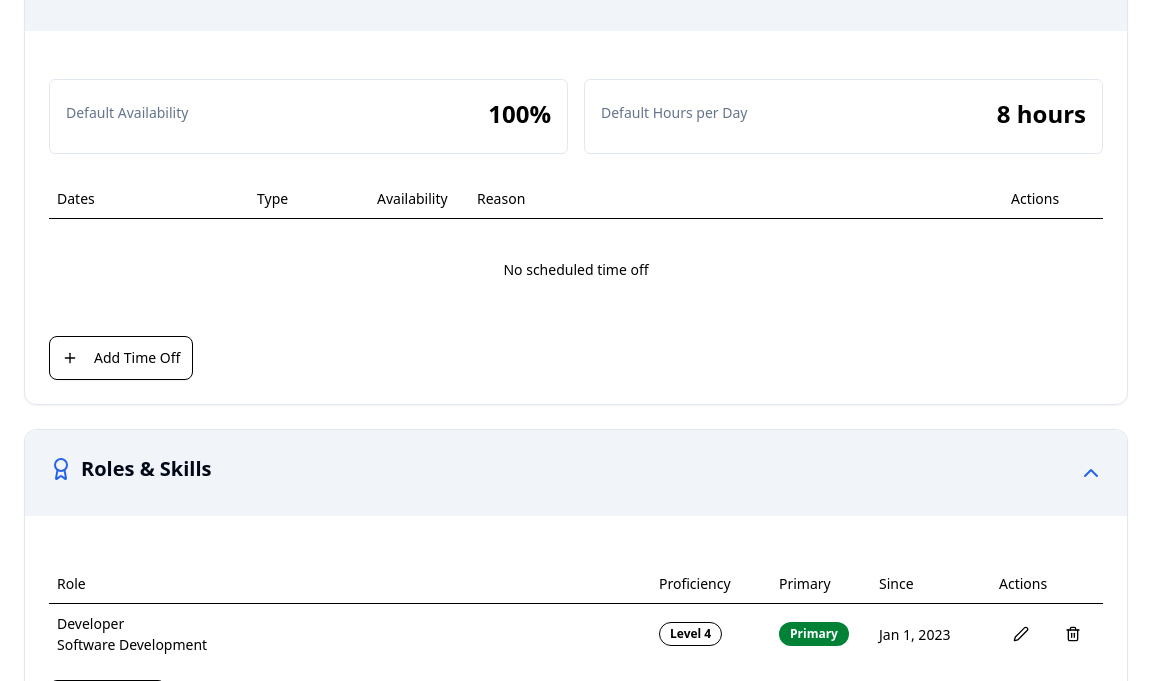
PersonDetails › Time Off Editing Workflow › renders new time off entry form with inputs
(page scrolled)
Click the button "Add Time Off": (121, 358) [49, 336, 193, 380]
(page scrolled)
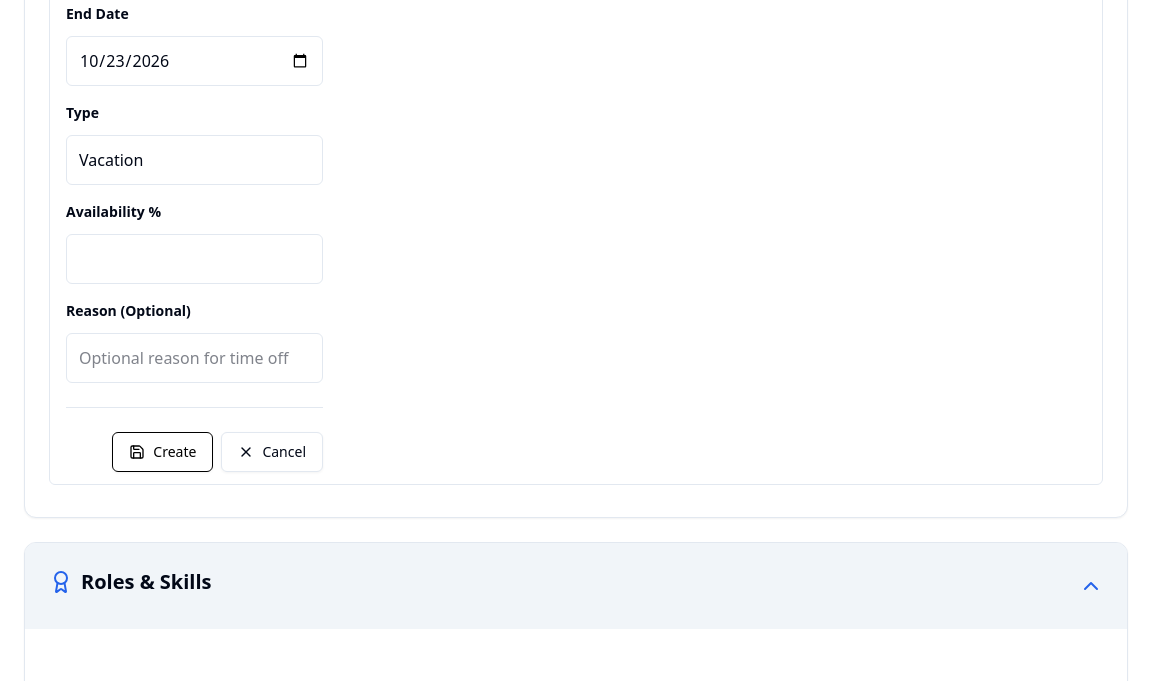
Check: the button "Create" is shown, box [112, 432, 213, 472]
Check: the button "Cancel" is shown, box [221, 432, 323, 472]
Check: the field is shown, box [66, 333, 323, 383]
